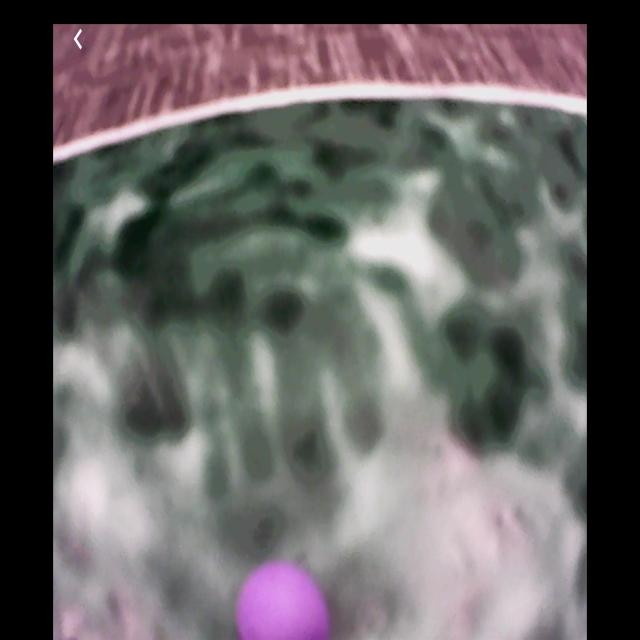ball: (235, 560, 331, 640)
